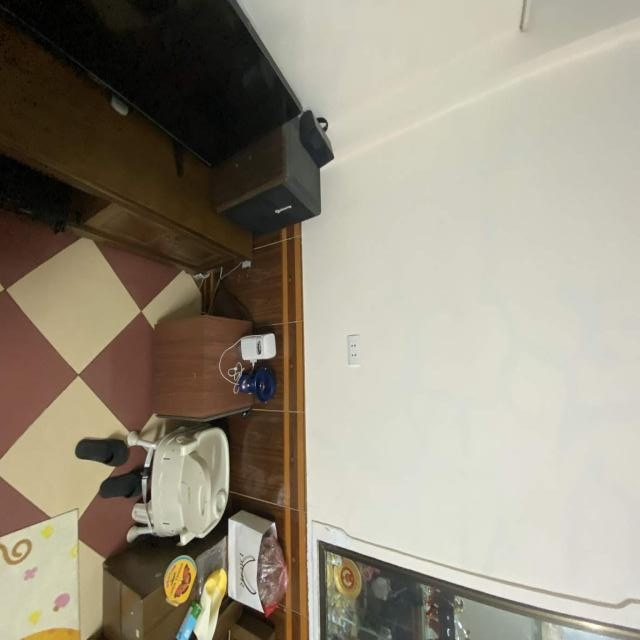outlet: (347, 334, 361, 366)
